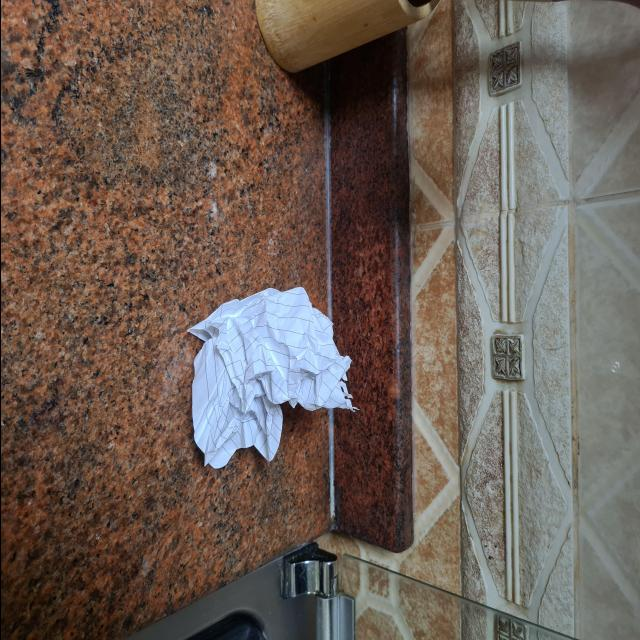kertas: (188, 278, 354, 472)
